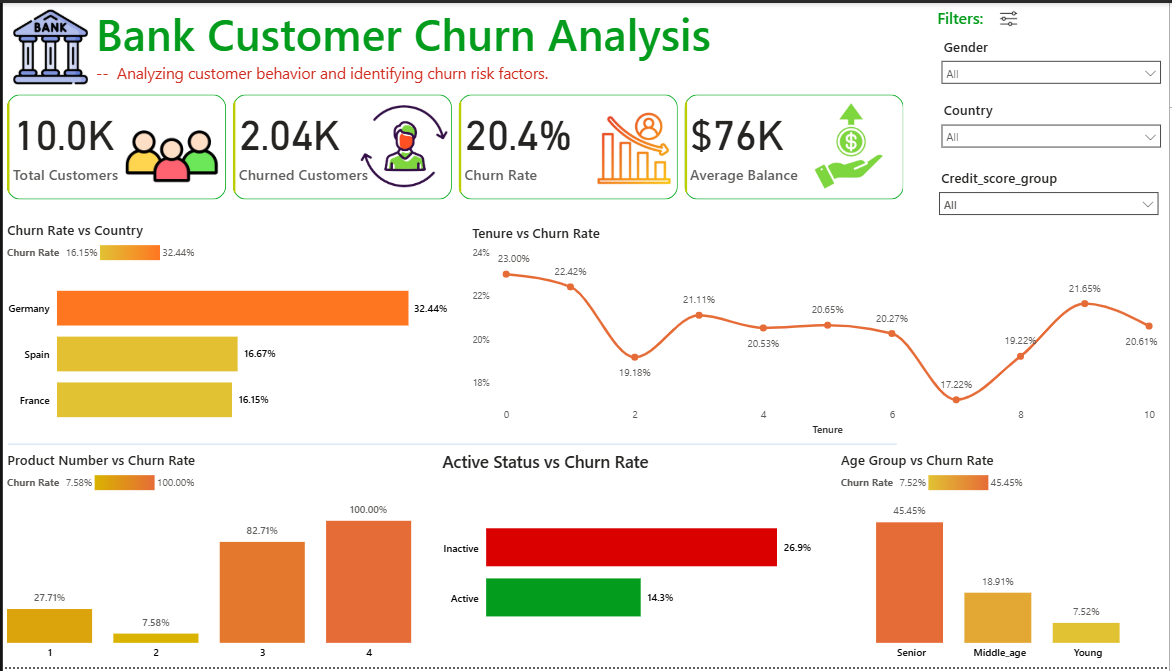

Layout of this report page (visuals, bound fields, positions):
{"tool":"powerbi","page":{"name":"Page 1","canvas":[1400,800],"ordinal":0},"visuals":[{"type":"cardVisual","fields":{"Data":["bank bank_customers.Total Customers","bank bank_customers.Churned Customers","bank bank_customers.Churn Rate","bank bank_customers.Average Balance"]},"box":[0,105.1,1086.6,136.6],"z":0},{"type":"barChart","title":"Churn Rate vs Country","fields":{"Category":["bank bank_customers.country"],"Y":["bank bank_customers.Churn Rate"]},"box":[0,261.2,315.2,265.7],"z":1000},{"type":"clusteredColumnChart","title":"Age Group vs Churn Rate","fields":{"Category":["bank bank_customers.age_group"],"Y":["bank bank_customers.Churn Rate"]},"box":[699.4,538.8,373.7,261.2],"z":2000},{"type":"barChart","title":"Active Status vs Churn Rate","fields":{"Category":["bank bank_customers.active_status"],"Y":["bank bank_customers.Churn Rate"]},"box":[351.2,538.8,334.7,261.2],"z":3000},{"type":"clusteredColumnChart","title":"Product Number  vs Churn Rate","fields":{"Category":["bank bank_customers.product_number"],"Y":["bank bank_customers.Churn Rate"]},"box":[0,538.8,327.2,261.2],"z":4000},{"type":"lineChart","title":"Tenure vs Churn Rate ","fields":{"Category":["bank bank_customers.tenure"],"Y":["bank bank_customers.Churn Rate"]},"box":[327.2,261.2,750.4,261.2],"z":5000},{"type":"slicer","title":"Country","fields":{"Values":["bank bank_customers.country"]},"box":[1116.3,184.6,283.7,75],"z":6000},{"type":"slicer","title":"Credit Score Group","fields":{"Values":["bank bank_customers.age_group"]},"box":[1113.6,270.2,283.7,70.5],"z":7000},{"type":"textbox","box":[106.6,0,935,105.1],"z":8000},{"type":"shape","box":[6,520.8,1067.1,18],"z":9000},{"type":"shape","box":[1094.1,105.1,13.5,682.9],"z":10000},{"type":"textbox","title":"Key Insights ","box":[1116.6,364.7,283.7,435.3],"z":11000},{"type":"textbox","box":[1116.6,66,247.6,39],"z":12000},{"type":"image","box":[424.7,115.6,114.1,112.6],"z":13000},{"type":"image","box":[706.9,124.6,102.1,100.6],"z":14000},{"type":"image","box":[953,115.6,124.6,112.6],"z":15000},{"type":"image","box":[130.6,84,144.1,136.6],"z":16000},{"type":"image","box":[7.5,0,99.1,105.1],"z":17000},{"type":"slicer","title":"Gender","fields":{"Values":["bank bank_customers.gender"]},"box":[1116.6,105.1,283.7,70.5],"z":18000},{"type":"image","box":[1175.2,66,64.5,37.5],"z":18001}]}

Visuals, with their boxes in screenshot pixels (x1, y1, x2, y2), scaled from the page's 1400x800 canvas onto the 1172x671 screenshot:
cardVisual - bank bank_customers.Total Customers x bank bank_customers.Churned Customers: left=0, top=88, right=910, bottom=203
"Churn Rate vs Country" barChart: left=0, top=219, right=264, bottom=442
"Age Group vs Churn Rate" clusteredColumnChart: left=585, top=452, right=898, bottom=670
"Active Status vs Churn Rate" barChart: left=294, top=452, right=574, bottom=670
"Product Number  vs Churn Rate" clusteredColumnChart: left=0, top=452, right=274, bottom=670
"Tenure vs Churn Rate " lineChart: left=274, top=219, right=902, bottom=438
"Country" slicer: left=935, top=155, right=1171, bottom=218
"Credit Score Group" slicer: left=932, top=227, right=1170, bottom=286
textbox: left=89, top=0, right=872, bottom=88
shape: left=5, top=437, right=898, bottom=452
shape: left=916, top=88, right=927, bottom=661
"Key Insights " textbox: left=935, top=306, right=1171, bottom=670
textbox: left=935, top=55, right=1142, bottom=88
image: left=356, top=97, right=451, bottom=191
image: left=592, top=105, right=677, bottom=189
image: left=798, top=97, right=902, bottom=191
image: left=109, top=70, right=230, bottom=185
image: left=6, top=0, right=89, bottom=88
"Gender" slicer: left=935, top=88, right=1171, bottom=147
image: left=984, top=55, right=1038, bottom=87
